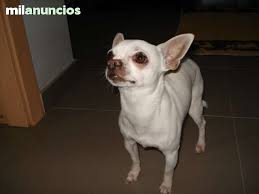chihuahua: (95, 19, 222, 194)
